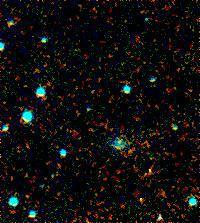star: (125, 181, 155, 211)
